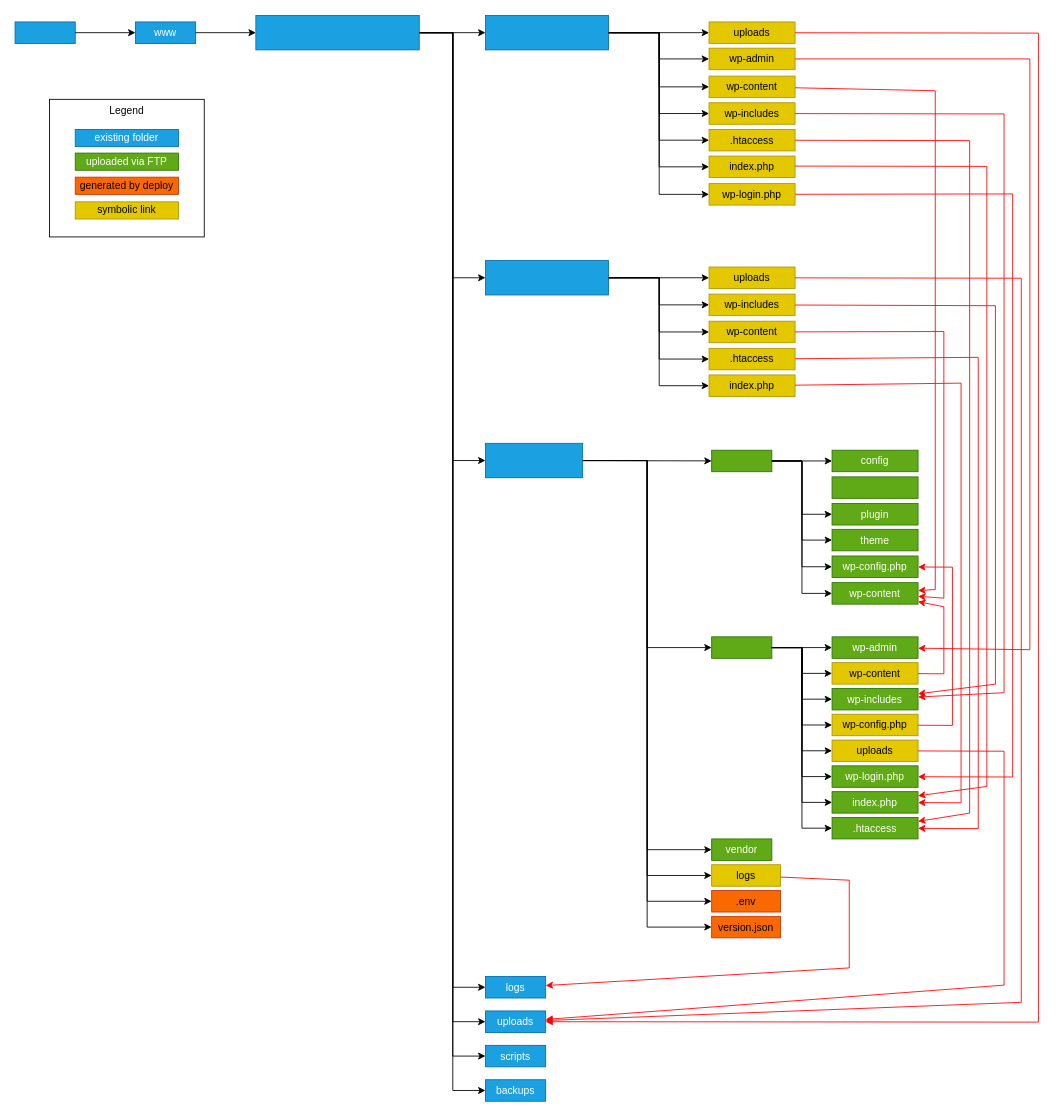
Image size: 1060x1116. Some labels were removed from this diagram. The centre of each missing label's shape, as x and y in pixels:
deployment: the point at 534,460
environment-root (e.g. wedding.sytesbook.com): the point at 337,32
main-domain-public: the point at 546,32
migrations: the point at 874,487
model-domains-public: the point at 546,277
src: the point at 741,460
var: the point at 44,32
wp: the point at 741,647
